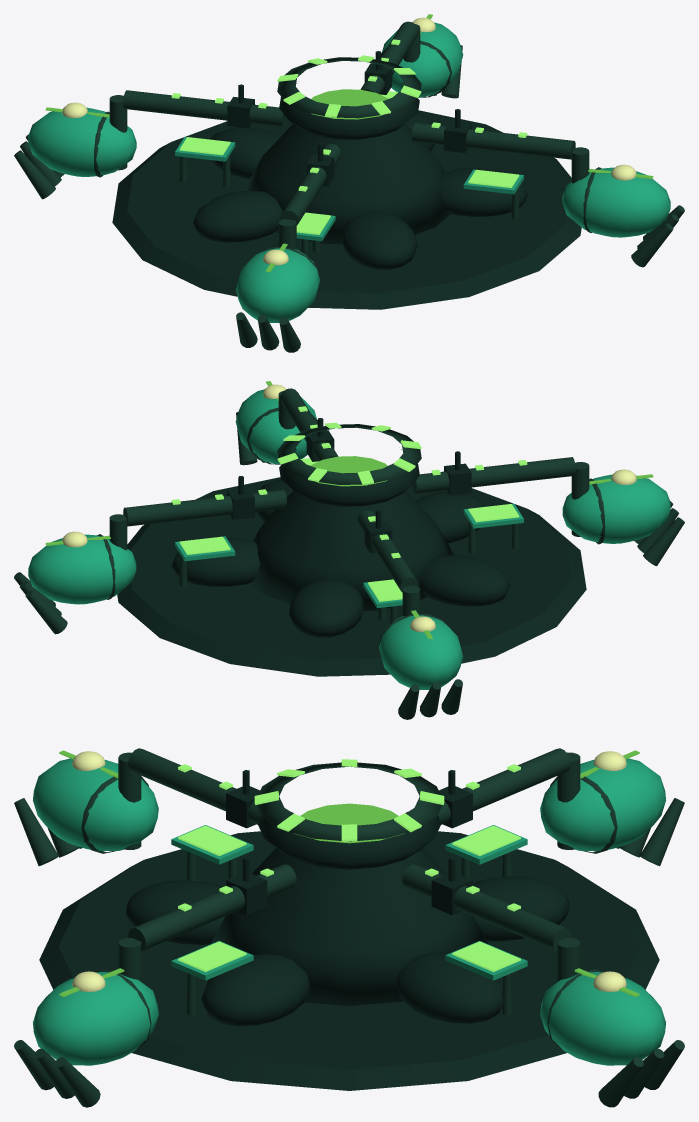
The model's file is vent-tap-pelagia.glb.
3 views of the same model, one above another, from view 1: azimuth 30°, elevation 25°; view 2: azimuth 150°, elevation 25°; view 3: azimuth 270°, elevation 25° (orthographic). The views are drawn at different scales.
Parts seen in each view (by area): view 1: apron, bladder (×4), vent_chimney, draw_pipe (×4), basalt_lobe_2, basalt_lobe_1, clamp_ring, basalt_lobe_0, manifold_ring, basalt_lobe_3, platform_flood (×3), riser (×3) (+4 smaller); view 2: apron, bladder (×4), vent_chimney, draw_pipe (×4), basalt_lobe_2, basalt_lobe_3, clamp_ring, basalt_lobe_4, manifold_ring, basalt_lobe_1, platform_flood (×3), riser (×3) (+4 smaller); view 3: apron, bladder (×4), vent_chimney, draw_pipe (×4), basalt_lobe_0, basalt_lobe_4, clamp_ring, platform_flood (×4), valve_block (×4), manifold_ring, riser (×4), platform (×4) (+7 smaller).
Part boxes in pixels (x1=…): apron: x1=112, y1=110, x2=581, y2=309; bladder (×4): x1=28, y1=22, x2=670, y2=322; vent_chimney: x1=244, y1=123, x2=450, y2=244; draw_pipe (×4): x1=123, y1=21, x2=575, y2=225; basalt_lobe_2: x1=193, y1=190, x2=282, y2=242; basalt_lobe_1: x1=341, y1=212, x2=417, y2=269; clamp_ring: x1=279, y1=83, x2=419, y2=139; basalt_lobe_0: x1=441, y1=168, x2=527, y2=216; manifold_ring: x1=277, y1=57, x2=421, y2=118; basalt_lobe_3: x1=210, y1=127, x2=279, y2=178; platform_flood (×3): x1=179, y1=137, x2=519, y2=234; riser (×3): x1=109, y1=95, x2=589, y2=249; apron: x1=117, y1=477, x2=586, y2=676; bladder (×4): x1=28, y1=389, x2=670, y2=689; vent_chimney: x1=251, y1=490, x2=454, y2=610; draw_pipe (×4): x1=123, y1=388, x2=575, y2=592; basalt_lobe_2: x1=420, y1=555, x2=510, y2=606; basalt_lobe_3: x1=289, y1=579, x2=363, y2=637; clamp_ring: x1=279, y1=449, x2=419, y2=506; basalt_lobe_4: x1=171, y1=538, x2=259, y2=586; manifold_ring: x1=277, y1=424, x2=421, y2=484; basalt_lobe_1: x1=416, y1=491, x2=484, y2=543; platform_flood (×3): x1=179, y1=504, x2=519, y2=601; riser (×3): x1=109, y1=462, x2=589, y2=616; apron: x1=39, y1=831, x2=659, y2=1090; bladder (×4): x1=33, y1=758, x2=665, y2=1065; vent_chimney: x1=210, y1=848, x2=488, y2=1005; draw_pipe (×4): x1=128, y1=748, x2=570, y2=951; basalt_lobe_0: x1=201, y1=954, x2=310, y2=1026; basalt_lobe_4: x1=396, y1=952, x2=504, y2=1023; clamp_ring: x1=257, y1=815, x2=441, y2=869; platform_flood (×4): x1=178, y1=825, x2=520, y2=971; valve_block (×4): x1=226, y1=786, x2=472, y2=915; manifold_ring: x1=256, y1=762, x2=442, y2=841; riser (×4): x1=118, y1=752, x2=580, y2=981; platform (×4): x1=171, y1=825, x2=527, y2=980.
Size of the model in its own units: 175 by 52.76 by 175.
